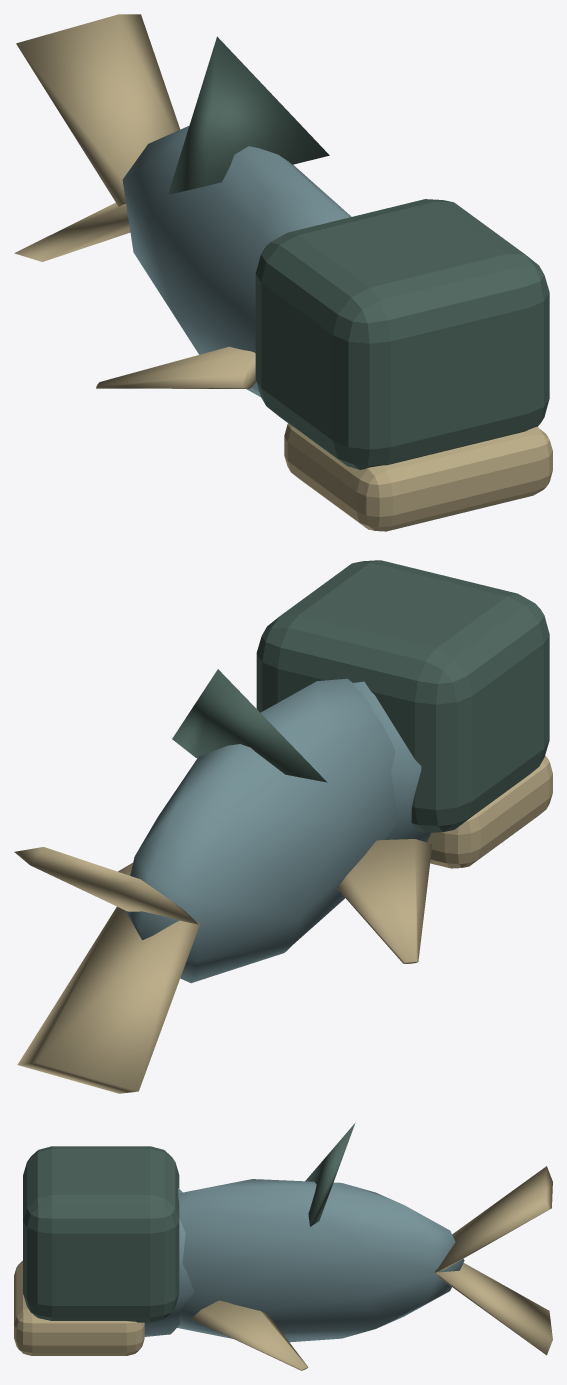
The model's file is org_dunkleosteus.glb.
3 renders of one model, top to bottom at view 1: azimuth 30°, elevation 25°; view 2: azimuth 150°, elevation 25°; view 3: azimuth 270°, elevation 25°, orthographic. The views are drawn at different scales.
Parts seen in each view (by area): view 1: Head, Body, Tail, Fin_R; view 2: Head, Body, Tail, Fin_R; view 3: Body, Head, Tail, Fin_L.
Boxes of the visible parts, <box> form: Head: <box>255,199,552,531</box>; Body: <box>122,36,351,396</box>; Tail: <box>14,14,180,261</box>; Fin_R: <box>96,346,256,388</box>; Head: <box>256,560,552,868</box>; Body: <box>125,669,397,983</box>; Tail: <box>14,847,199,1093</box>; Fin_R: <box>337,839,432,963</box>; Body: <box>177,1122,464,1342</box>; Head: <box>14,1146,194,1355</box>; Tail: <box>434,1166,552,1355</box>; Fin_L: <box>191,1300,308,1370</box>.
Size of the model in its own units: 0.9015 by 0.8484 by 1.91.
